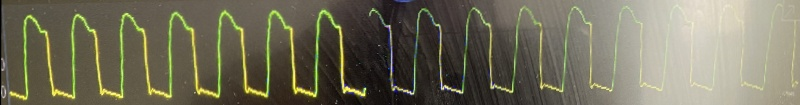normal_pressure: (0, 0, 777, 105)
